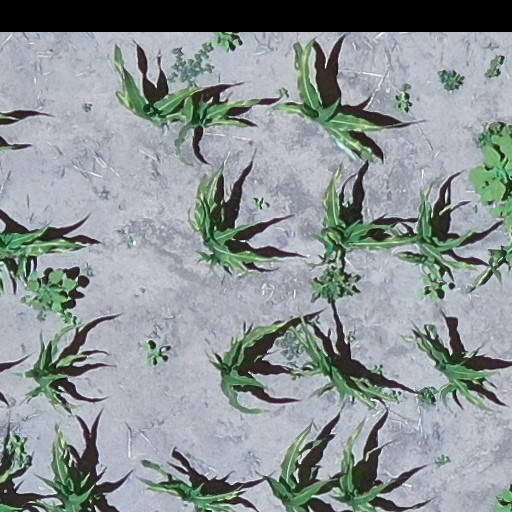planta: (269, 36, 410, 162), (303, 164, 424, 272), (188, 156, 285, 275), (287, 310, 405, 407), (389, 169, 483, 286), (398, 321, 508, 415), (113, 44, 218, 127), (7, 323, 98, 418), (172, 81, 263, 167), (206, 322, 287, 414)
